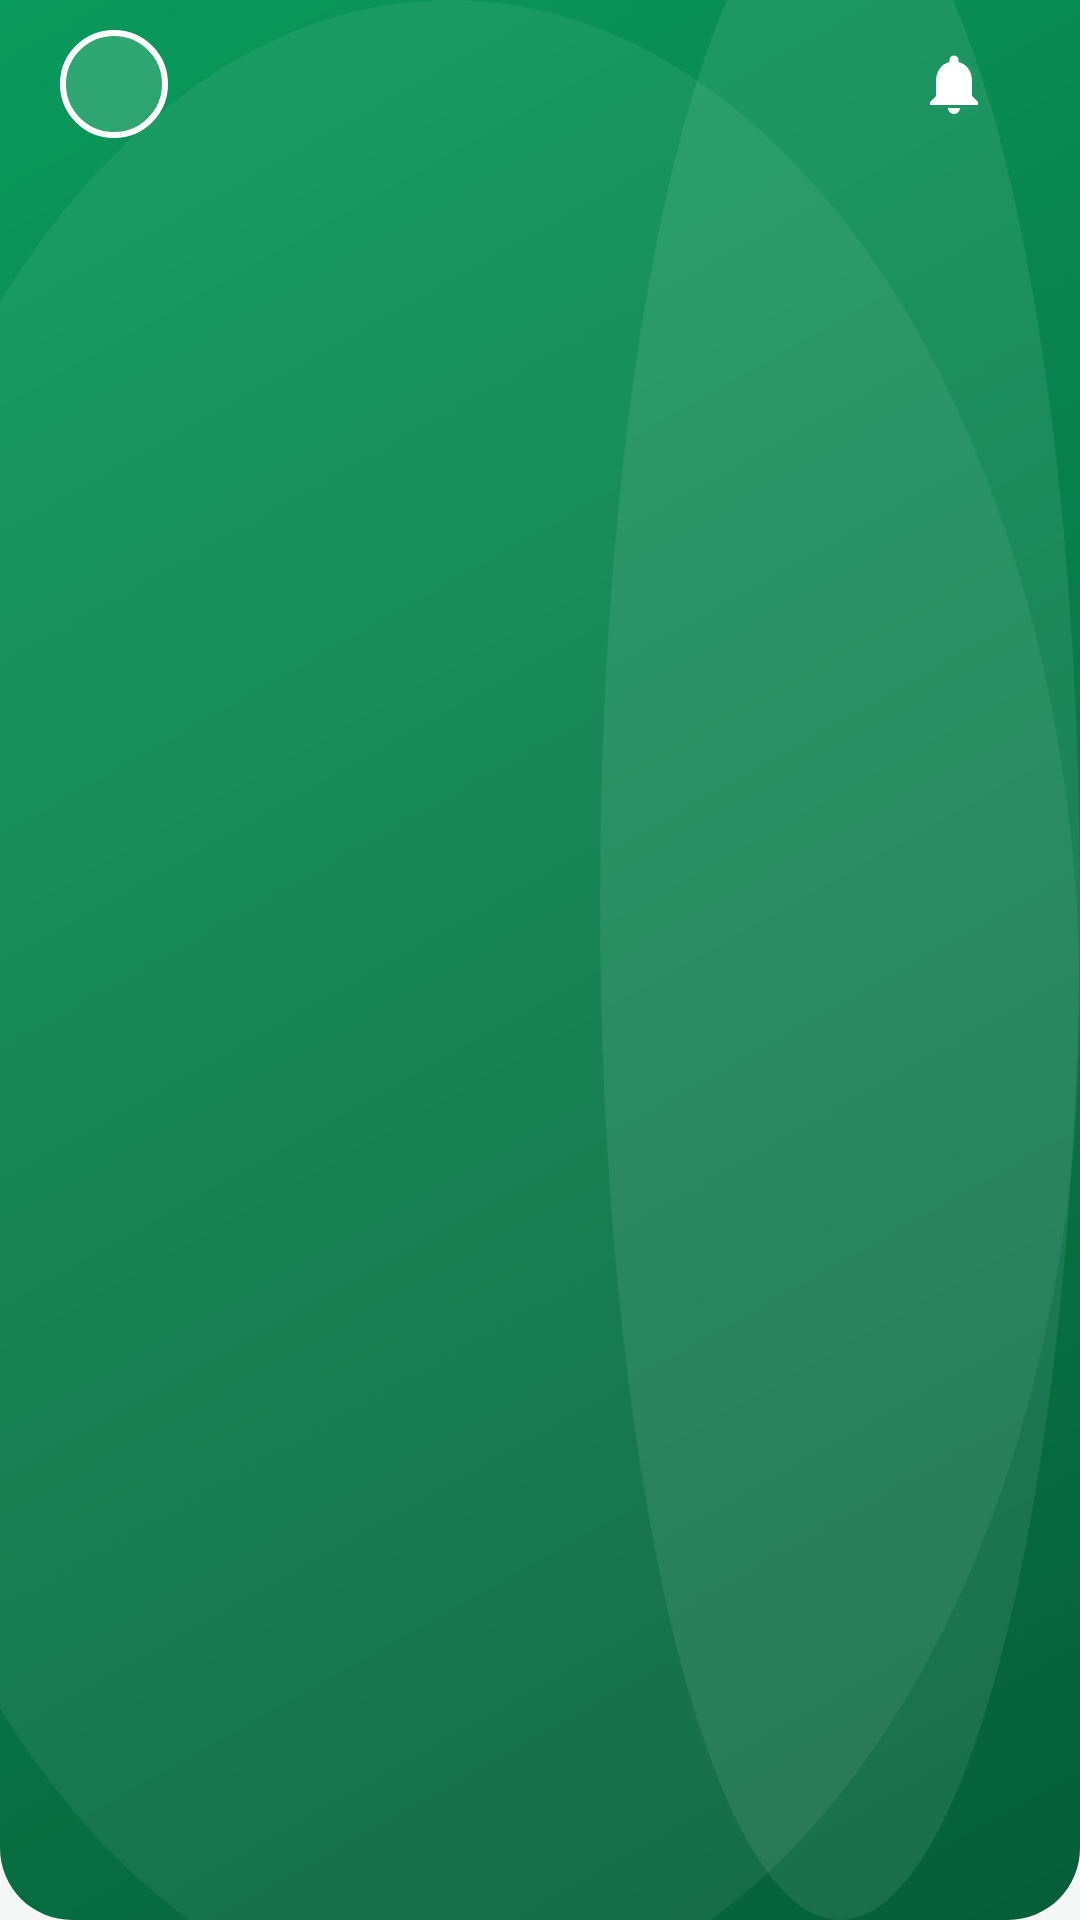

Locate icon controls on the screen. Image size 1080px×1920px, boxes as (x1, y1, x2, y2).
Notifications: (930, 55, 978, 114)
